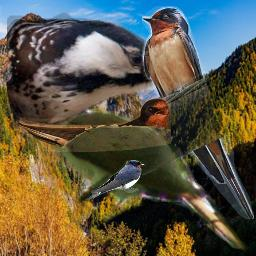Cuckoo: (27, 82, 248, 251)
Swallow: (142, 6, 254, 219), (19, 97, 171, 152), (85, 160, 145, 202)
Woodpecker: (7, 10, 198, 129)
